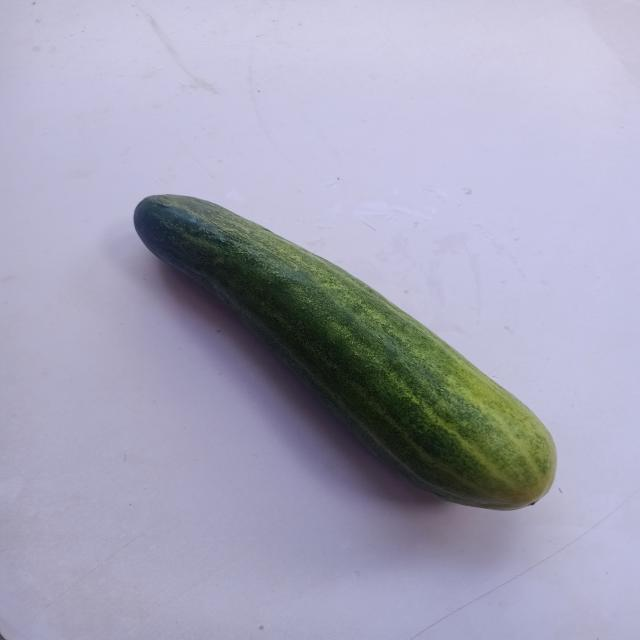Cucumber: (80, 173, 623, 560)
